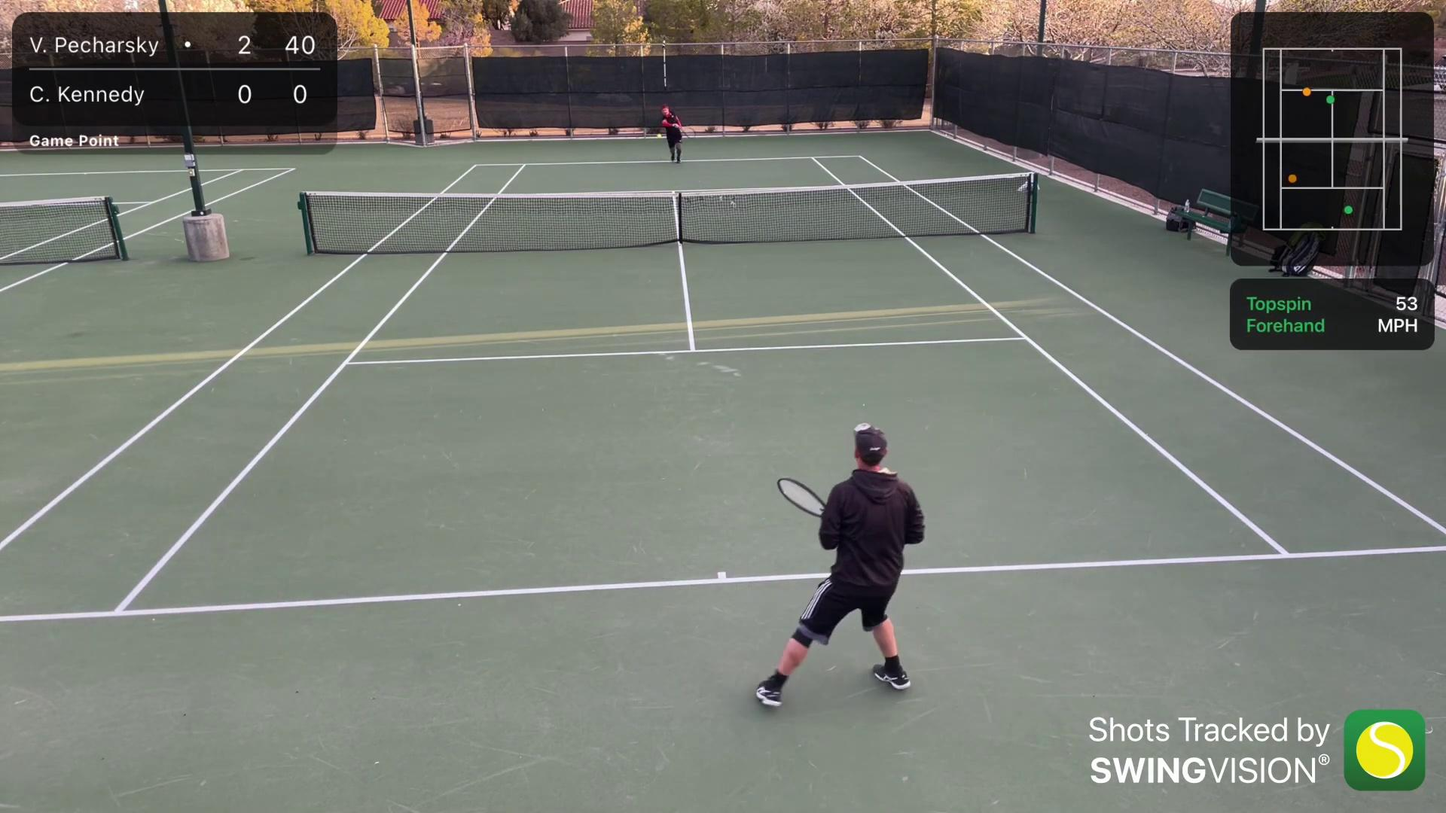ball: (656, 133, 662, 139)
